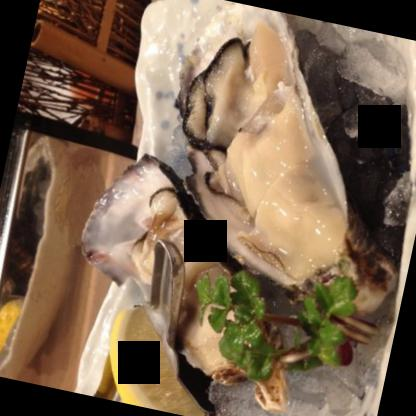oyster: (142, 0, 415, 315), (70, 154, 287, 376)
